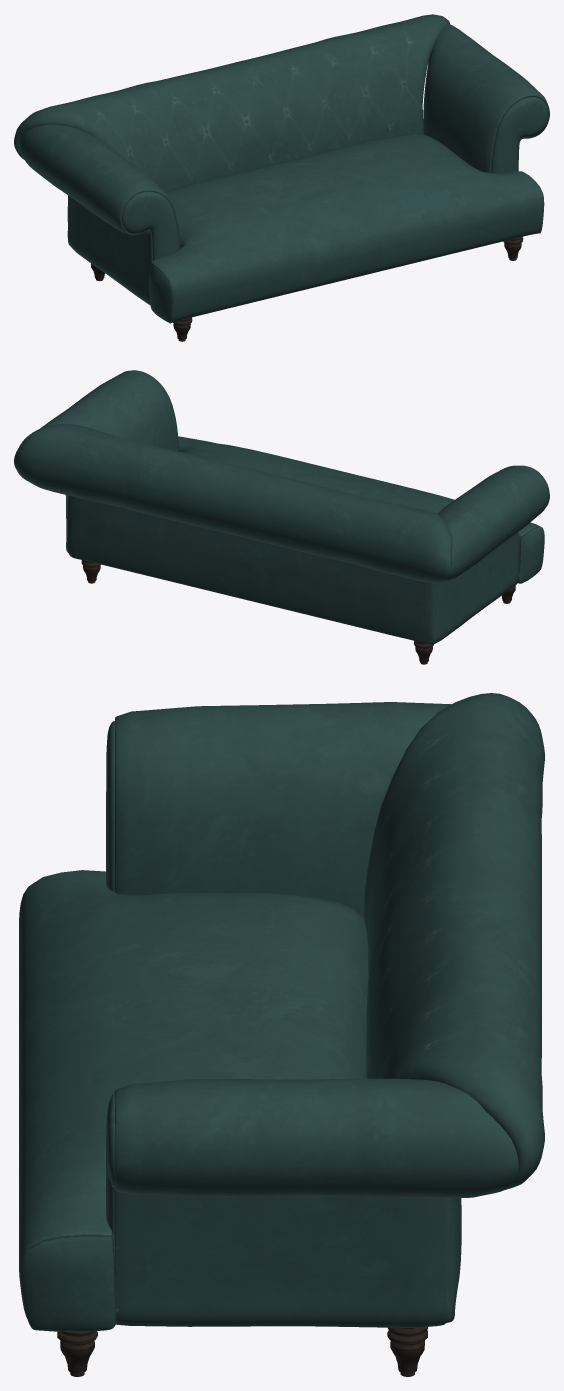
File: DiffuseBake.glb
The picture shows the model from 3 angles, top to bottom: view 1: azimuth 30°, elevation 25°; view 2: azimuth 150°, elevation 25°; view 3: azimuth 270°, elevation 25°; orthographic projection. The views are drawn at different scales.
Parts seen in each view (by area): view 1: GBF000013_02_Cushion; view 2: GBF000013_02_Cushion; view 3: GBF000013_02_Cushion.
Part boxes in pixels (x1,y1,x2,y2): GBF000013_02_Cushion: [14, 14, 549, 341]; GBF000013_02_Cushion: [14, 370, 549, 664]; GBF000013_02_Cushion: [19, 693, 544, 1376].
Size of the model in its own units: 2.32 by 0.8299 by 1.2.
1 material, 1 textured.
